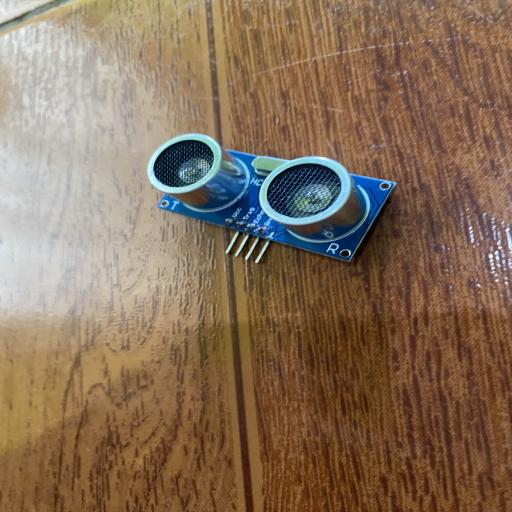Ultrasonic Sensor: (145, 132, 396, 264)
